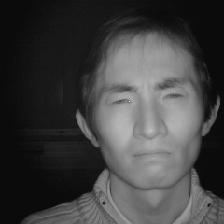sad: (65, 26, 218, 193)
